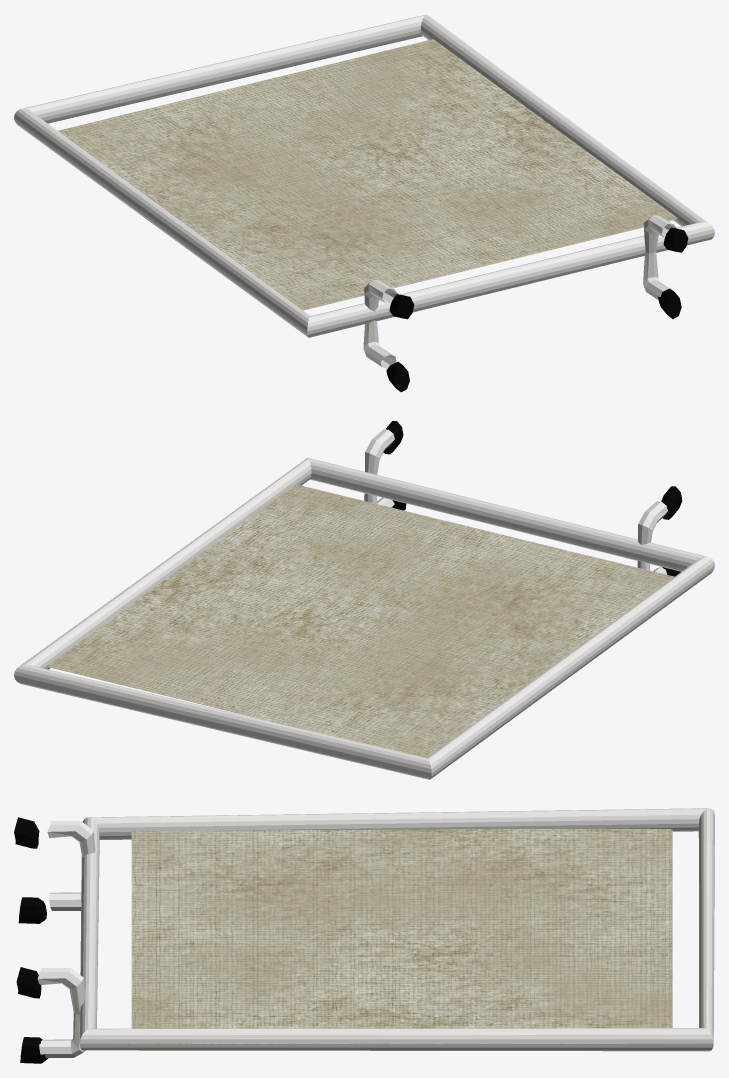
File: perde-yeni.dae
The picture shows the model from 3 angles, top to bottom: view 1: azimuth 30°, elevation 25°; view 2: azimuth 150°, elevation 25°; view 3: azimuth 270°, elevation 25°; orthographic projection. The views are drawn at different scales.
Parts seen in each view (by area): view 1: perde, cerceve, ayak2, ayak1; view 2: perde, cerceve, ayak1, ayak2; view 3: perde, cerceve, ayak1, ayak2, ayakucu3, ayakucu4, ayakucu2, ayakucu1.
Part boxes in pixels (left/top/right/bottom): perde: left=58, top=39, right=677, bottom=310; cerceve: left=14, top=14, right=714, bottom=337; ayak2: left=363, top=280, right=397, bottom=368; ayak1: left=643, top=215, right=676, bottom=299; perde: left=48, top=484, right=674, bottom=757; cerceve: left=14, top=457, right=714, bottom=779; ayak1: left=364, top=429, right=394, bottom=507; ayak2: left=637, top=501, right=667, bottom=574; perde: left=131, top=829, right=672, bottom=1043; cerceve: left=79, top=808, right=714, bottom=1051; ayak1: left=37, top=968, right=85, bottom=1057; ayak2: left=47, top=821, right=95, bottom=910; ayakucu3: left=18, top=897, right=46, bottom=923; ayakucu4: left=14, top=817, right=39, bottom=848; ayakucu2: left=16, top=967, right=41, bottom=998; ayakucu1: left=20, top=1037, right=48, bottom=1063.
Bounding box in the file's own units: 1.85 × 2.45 × 0.4115.
